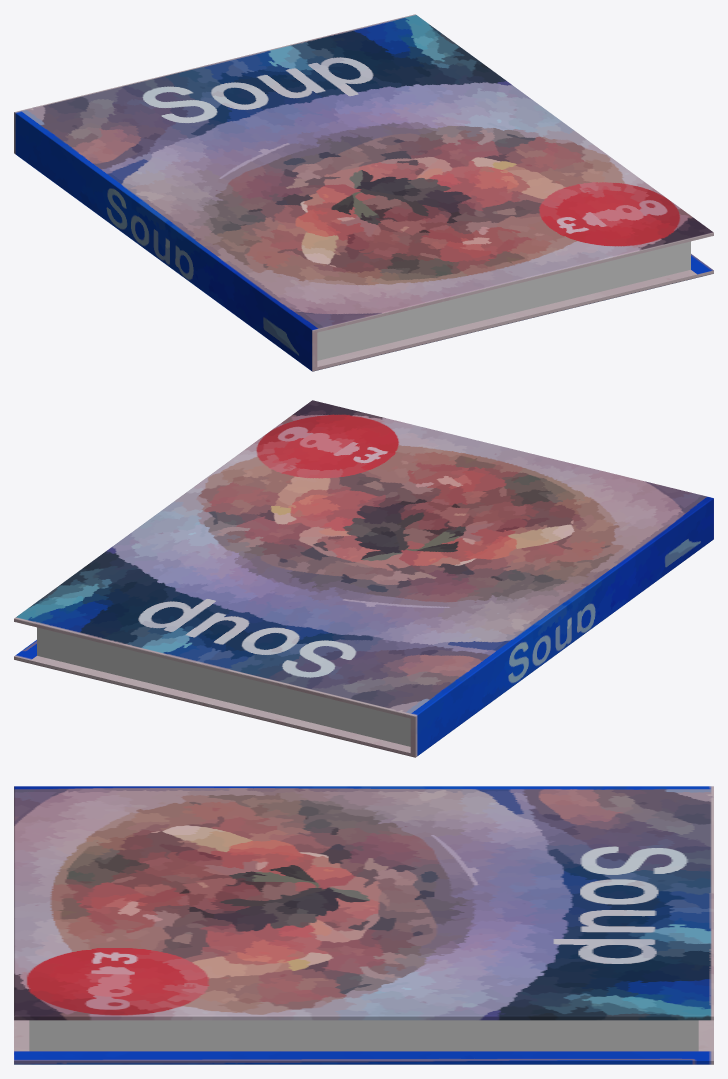
The model's file is soupBOOK.fbx.
3 renders of one model, top to bottom at view 1: azimuth 30°, elevation 25°; view 2: azimuth 150°, elevation 25°; view 3: azimuth 270°, elevation 25°, orthographic. The views are drawn at different scales.
Parts seen in each view (by area): view 1: SOUPBOOK; view 2: SOUPBOOK; view 3: SOUPBOOK.
Part boxes in pixels (bbox=[...]): SOUPBOOK: bbox=[14, 14, 713, 371]; SOUPBOOK: bbox=[14, 400, 713, 757]; SOUPBOOK: bbox=[14, 786, 713, 1064].
Bounding box in the file's own units: 10.4 × 1.04 × 13.37.
